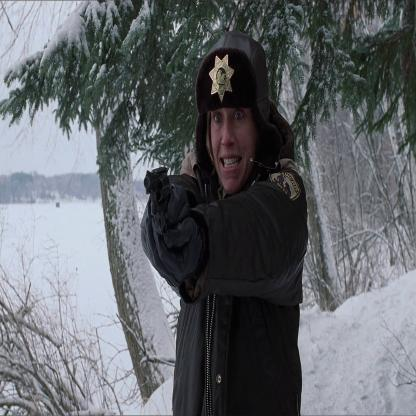gun: (139, 134, 186, 224)
